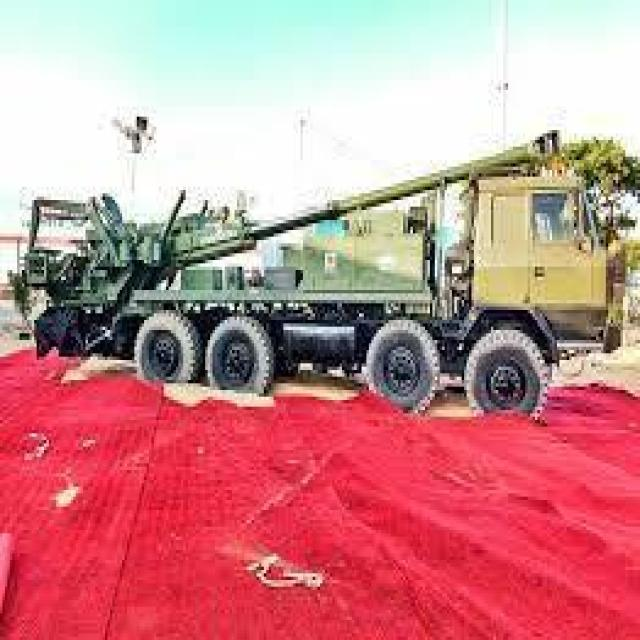Tanks: (118, 180, 620, 443)
